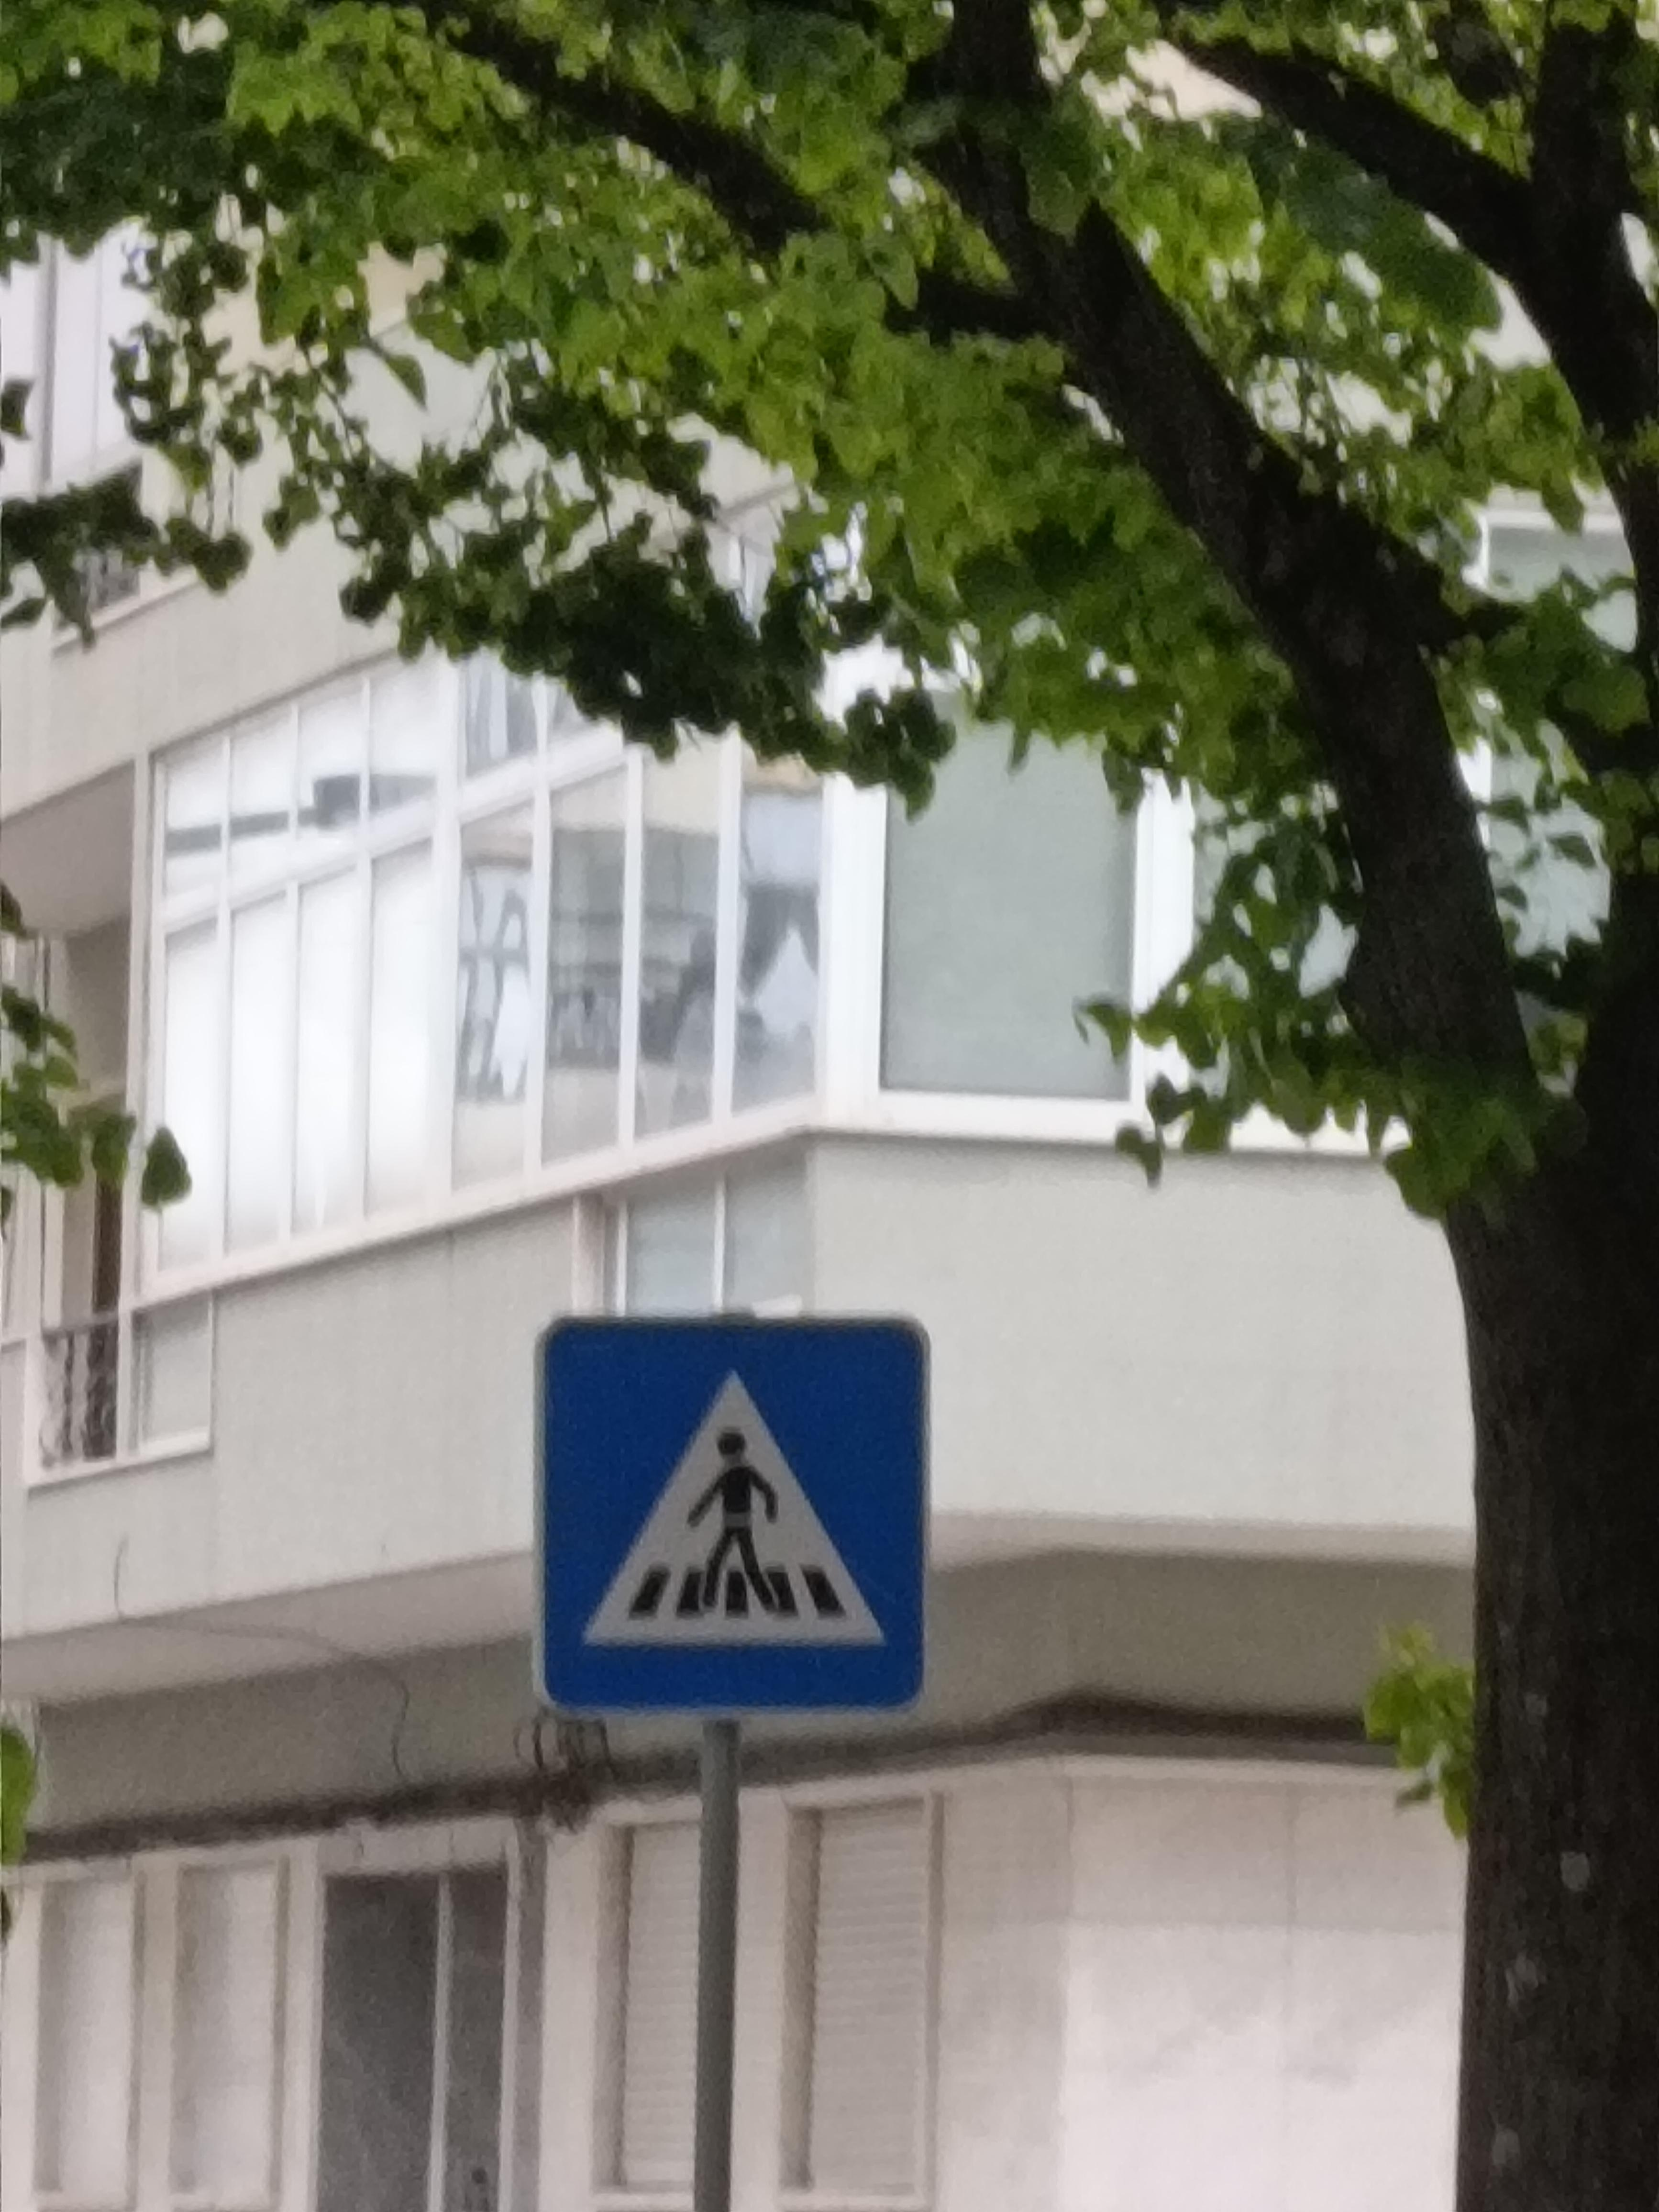passagem de peoes: (551, 1301, 929, 1693)
